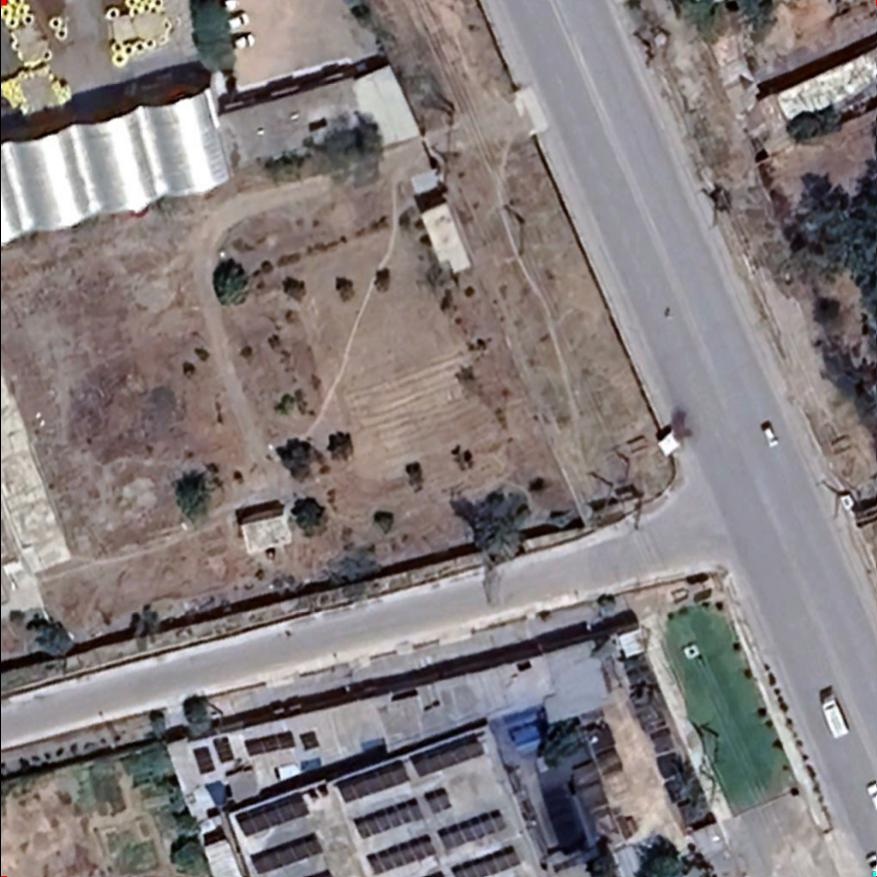Solarpanel: (330, 723, 492, 808), (363, 803, 510, 876), (353, 783, 459, 843), (228, 786, 317, 839), (245, 827, 327, 876), (423, 840, 527, 876), (183, 726, 241, 779), (237, 725, 325, 759)
